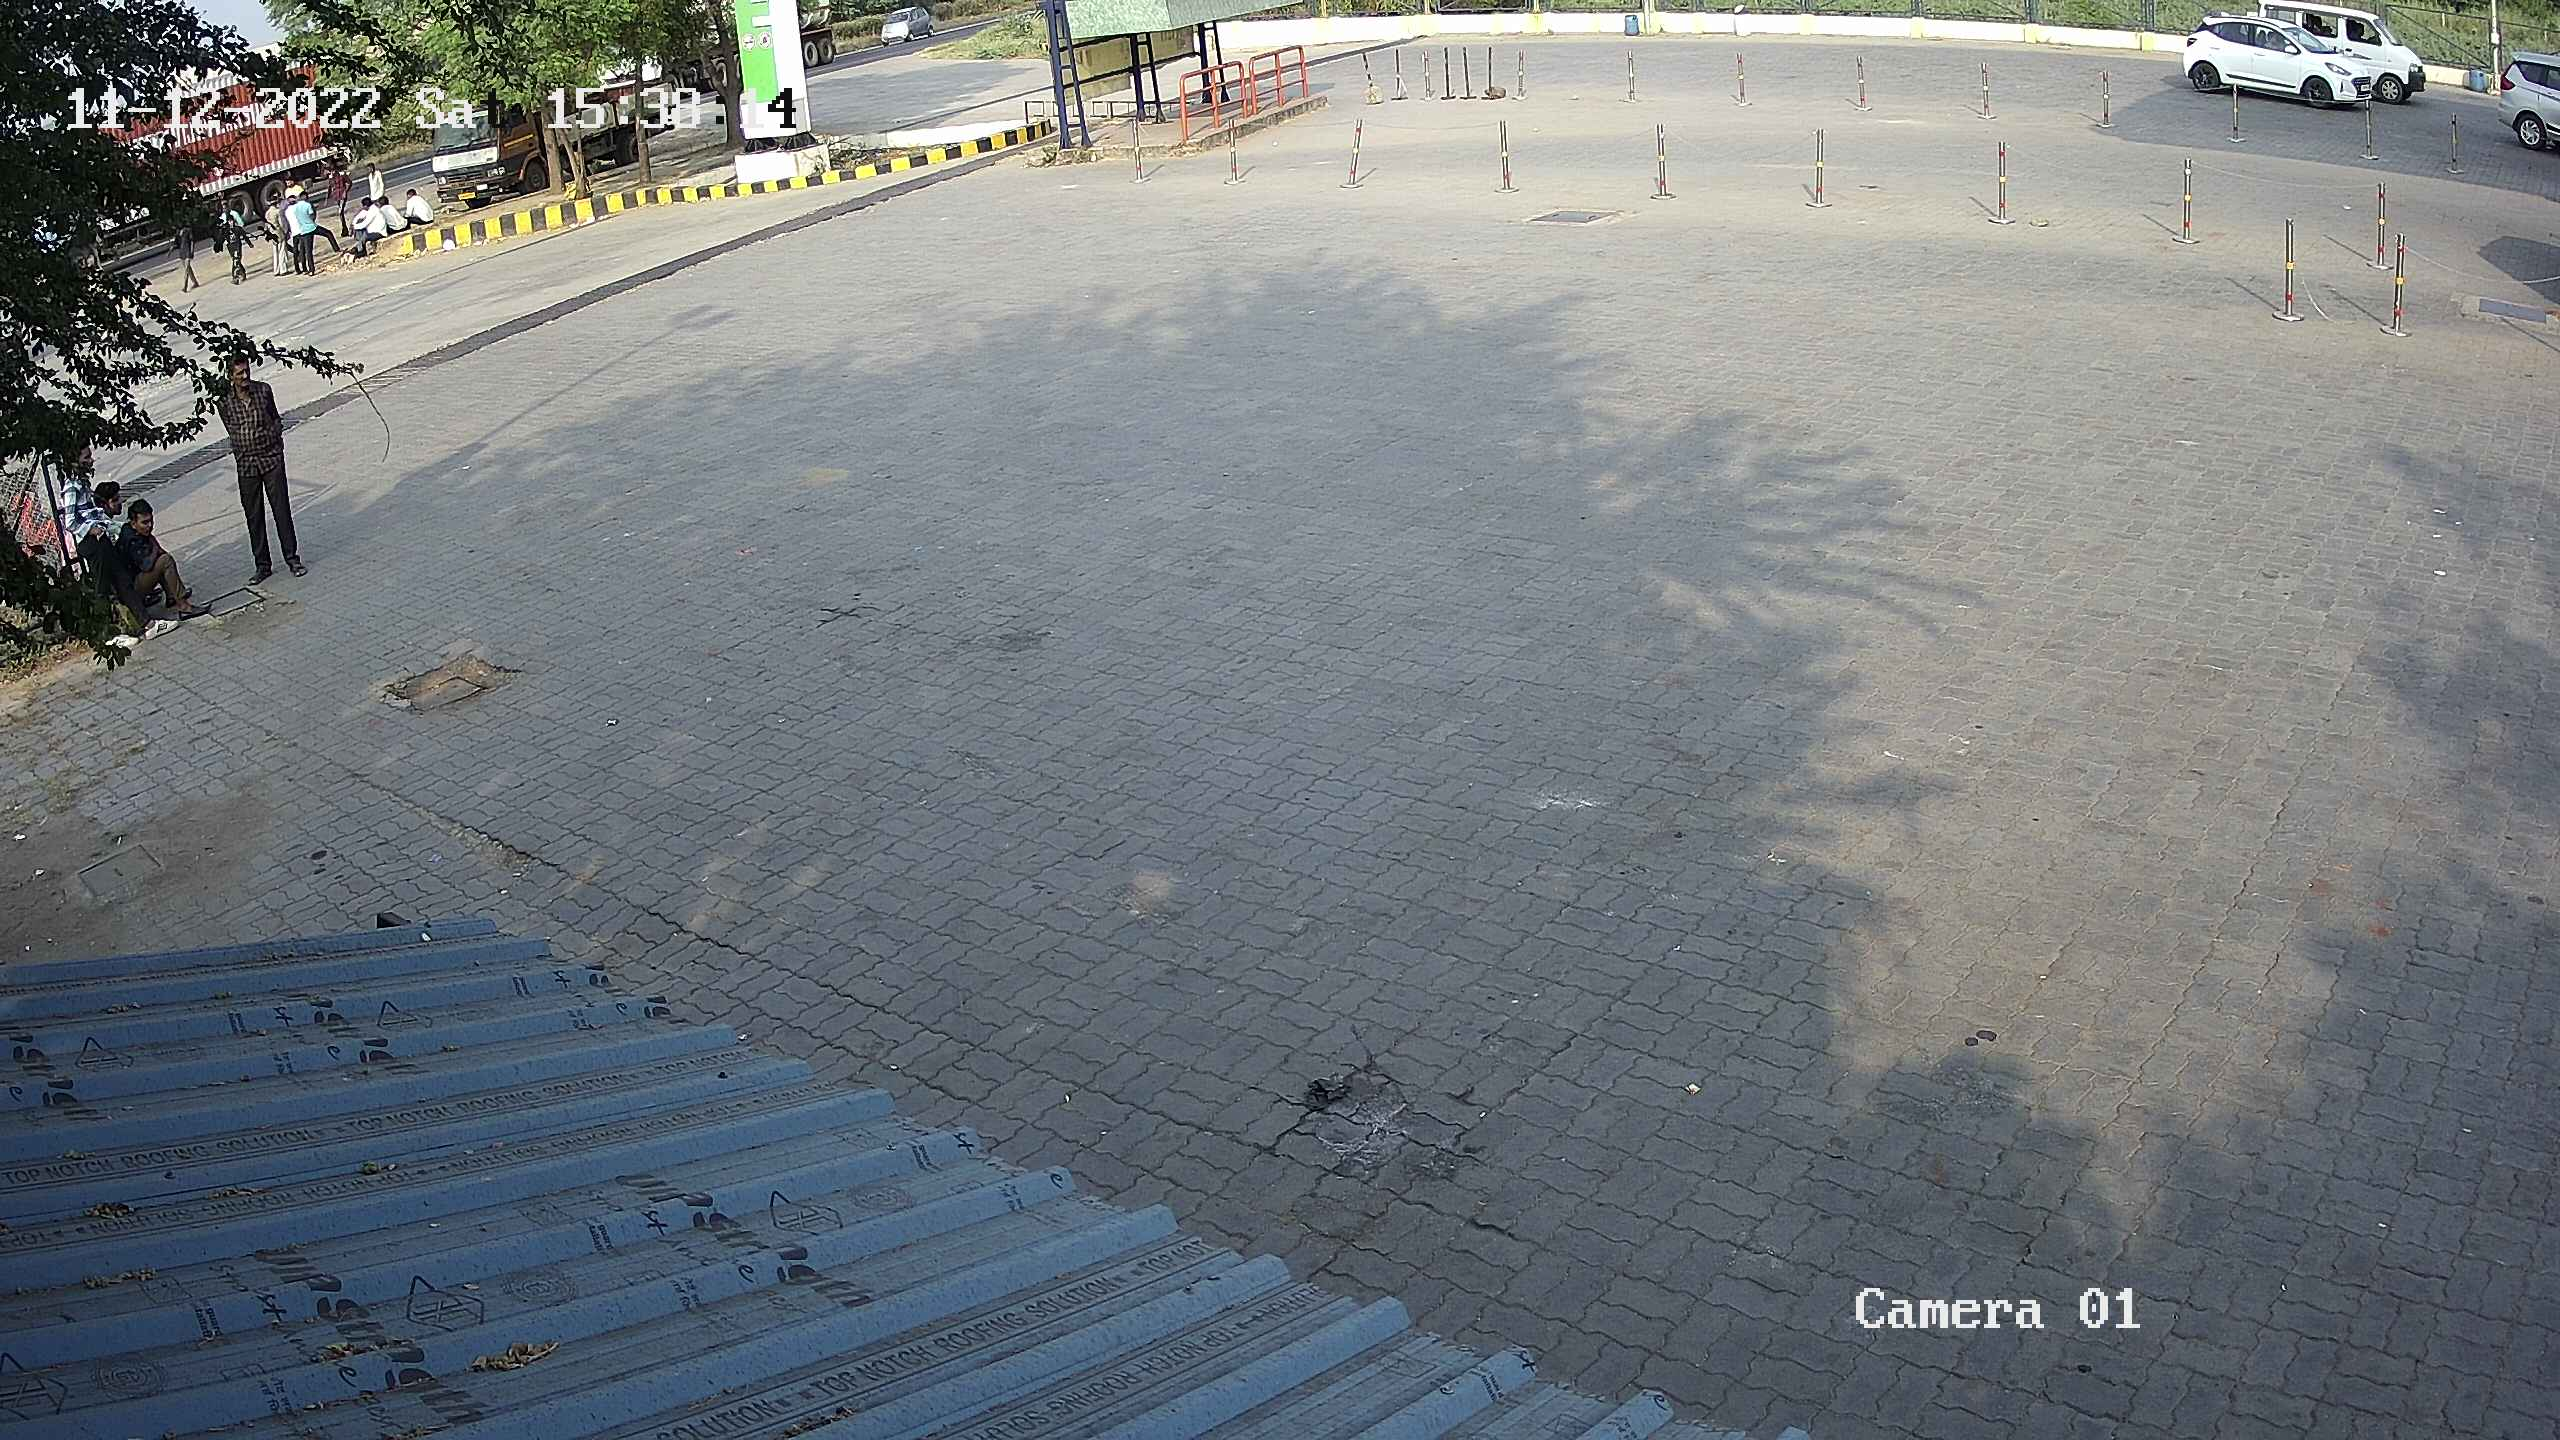Car: (2170, 4, 2384, 118), (2251, 0, 2432, 111), (2476, 28, 2560, 179), (876, 0, 942, 51)
HMV: (4, 40, 353, 287), (413, 47, 559, 227)
